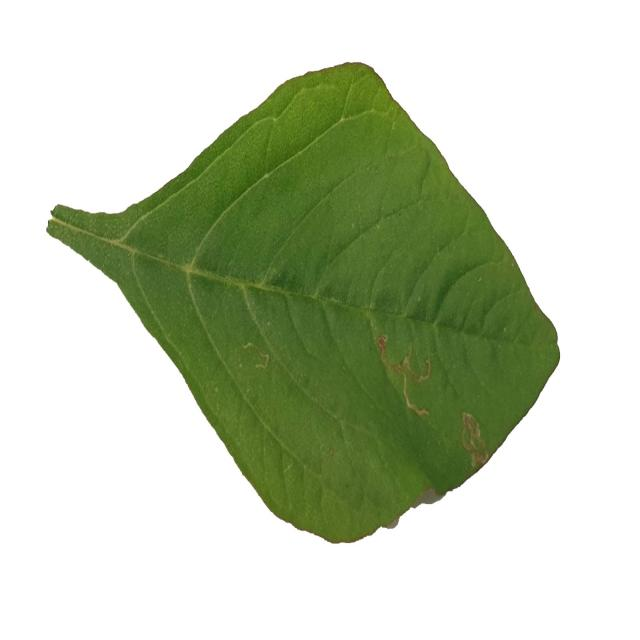Medicinal-Arive Dantu: (43, 63, 559, 553)
